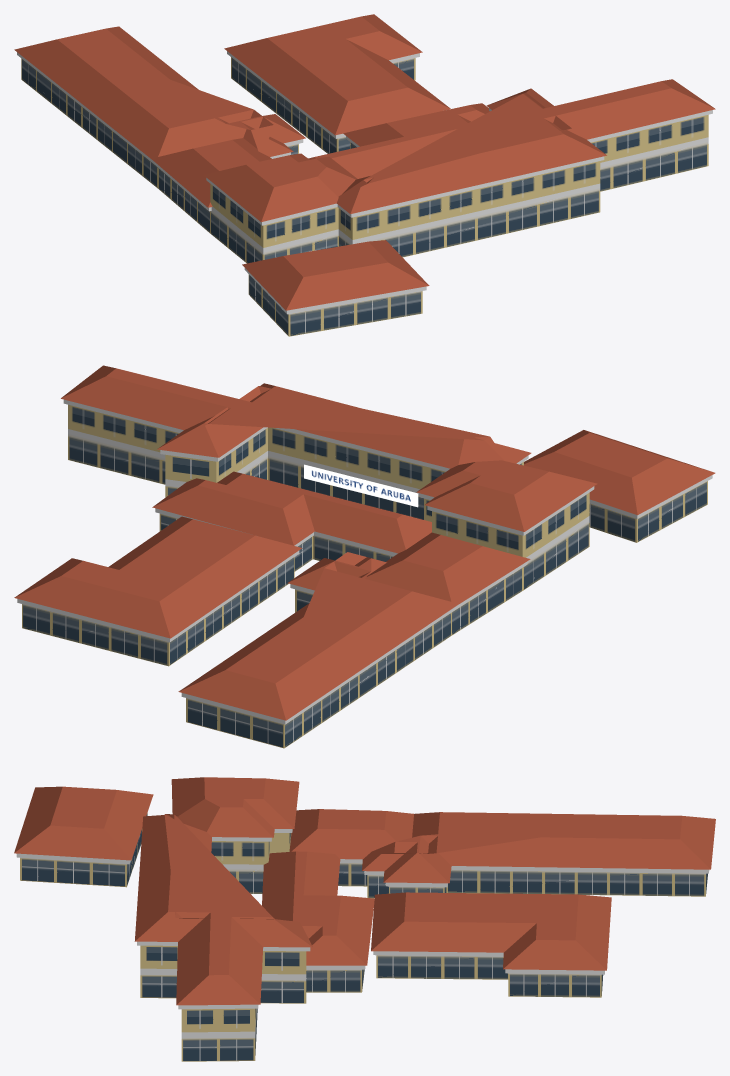
3 views of the same model, one above another, from view 1: azimuth 30°, elevation 25°; view 2: azimuth 150°, elevation 25°; view 3: azimuth 270°, elevation 25° (orthographic). The views are drawn at different scales.
Visible parts, largest first — view 1: ua_lod0; view 2: ua_lod0; view 3: ua_lod0.
Part boxes in pixels (x1,y1,x2,y2): ua_lod0: (14,14,715,336); ua_lod0: (14,365,715,748); ua_lod0: (14,777,715,1061).
Size of what is drawn, in the model's own units: 65.2 by 9.2 by 78.2.
Materials: 5 (3 with a texture image).
